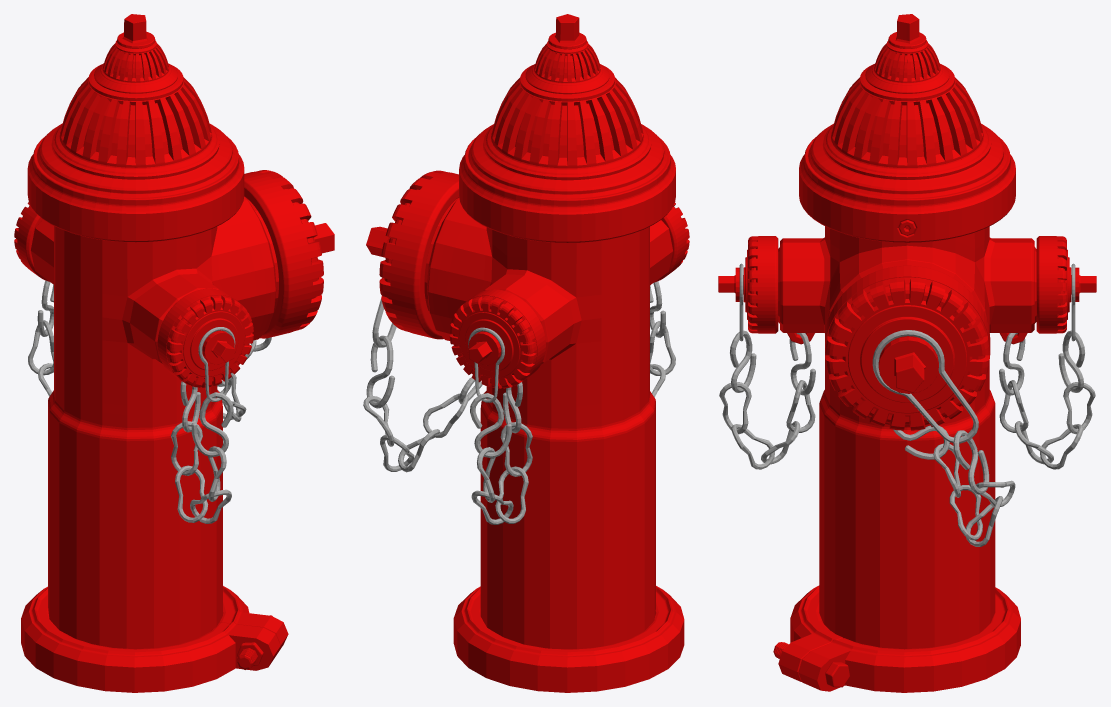
The model's file is fire_hydrant.fbx.
3 views of the same model, side by side, from view 1: azimuth 30°, elevation 25°; view 2: azimuth 150°, elevation 25°; view 3: azimuth 270°, elevation 25° (orthographic).
Visible parts, largest first — view 1: polySurface17, polySurface27, polySurface20, polySurface29, pTorus9, pTorus10, polySurface36; view 2: polySurface17, polySurface27, polySurface20, polySurface29, pTorus10, polySurface36, pTorus9; view 3: polySurface17, polySurface27, polySurface20, polySurface29, polySurface36, pTorus10, pTorus9.
Part boxes in pixels (x1,y1,x2,y2): polySurface17: (31,197,278,649); polySurface27: (27,14,244,242); polySurface20: (14,170,334,387); polySurface29: (21,586,288,692); pTorus9: (171,327,235,523); pTorus10: (28,280,53,396); polySurface36: (217,337,271,421); polySurface17: (424,197,672,649); polySurface27: (459,14,675,243); polySurface20: (366,170,689,388); polySurface29: (453,586,684,692); pTorus10: (468,327,532,524); polySurface36: (363,298,482,472); pTorus9: (650,281,675,397); polySurface17: (778,226,1036,649); polySurface27: (799,14,1015,242); polySurface20: (718,236,1096,430); polySurface29: (773,585,1020,692); polySurface36: (872,330,1015,546); pTorus10: (999,263,1095,469); pTorus9: (719,263,815,469).
Size of the model in its own units: 4.13 by 8.4 by 4.6.
